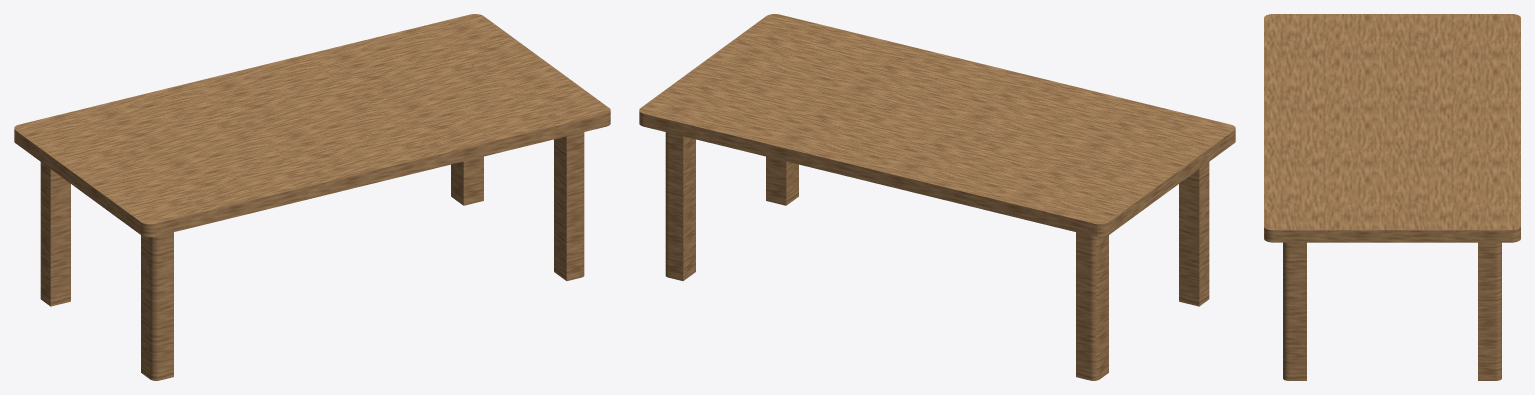
File: diningtable.glb
3 views of the same model, side by side, from view 1: azimuth 30°, elevation 25°; view 2: azimuth 150°, elevation 25°; view 3: azimuth 270°, elevation 25° (orthographic). The views are drawn at different scales.
Visible parts, largest first — view 1: Table.001; view 2: Table.001; view 3: Table.001.
Part boxes in pixels (x1,y1,x2,y2): Table.001: [14, 14, 610, 380]; Table.001: [639, 14, 1235, 380]; Table.001: [1264, 14, 1520, 380].
Size of the model in its own units: 2 by 0.684 by 1.
1 material, 1 textured.
